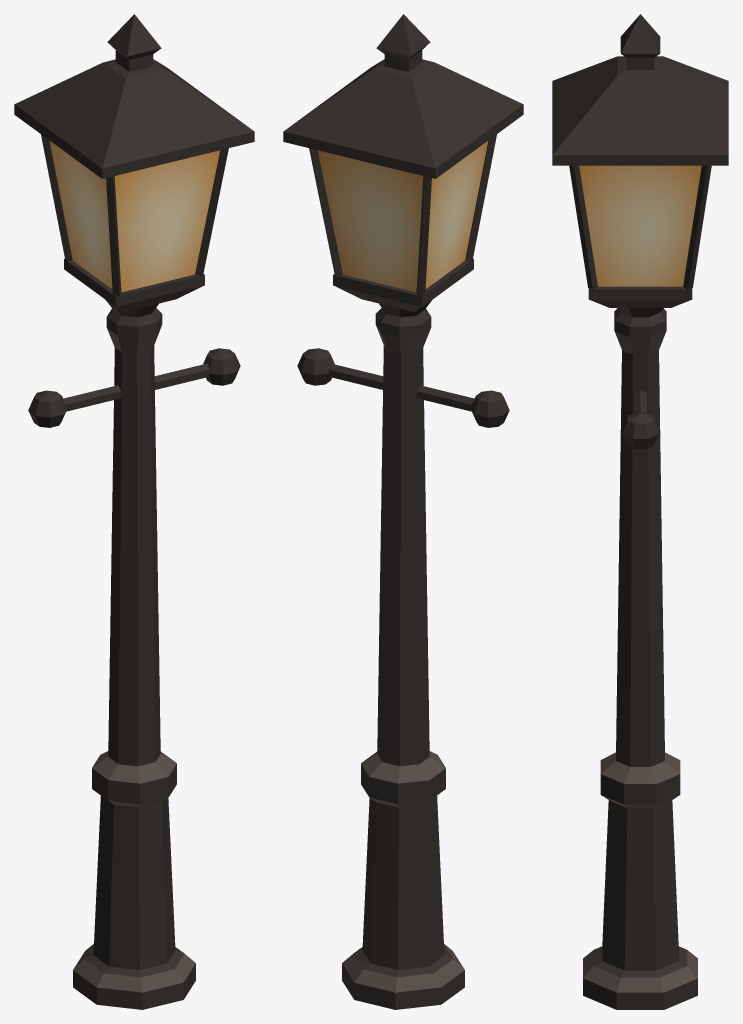
The model's file is FMS_Deco_Lantern_Post.fbx.
3 views of the same model, side by side, from view 1: azimuth 30°, elevation 25°; view 2: azimuth 150°, elevation 25°; view 3: azimuth 270°, elevation 25° (orthographic).
Visible parts, largest first — view 1: item_decor_lantern_post; view 2: item_decor_lantern_post; view 3: item_decor_lantern_post.
Boxes of the visible parts, <box> form: item_decor_lantern_post: <box>14,14,254,1009</box>; item_decor_lantern_post: <box>283,14,523,1009</box>; item_decor_lantern_post: <box>552,14,728,1009</box>.
Bounding box in the file's own units: 0.6189 × 2.8 × 0.46.
